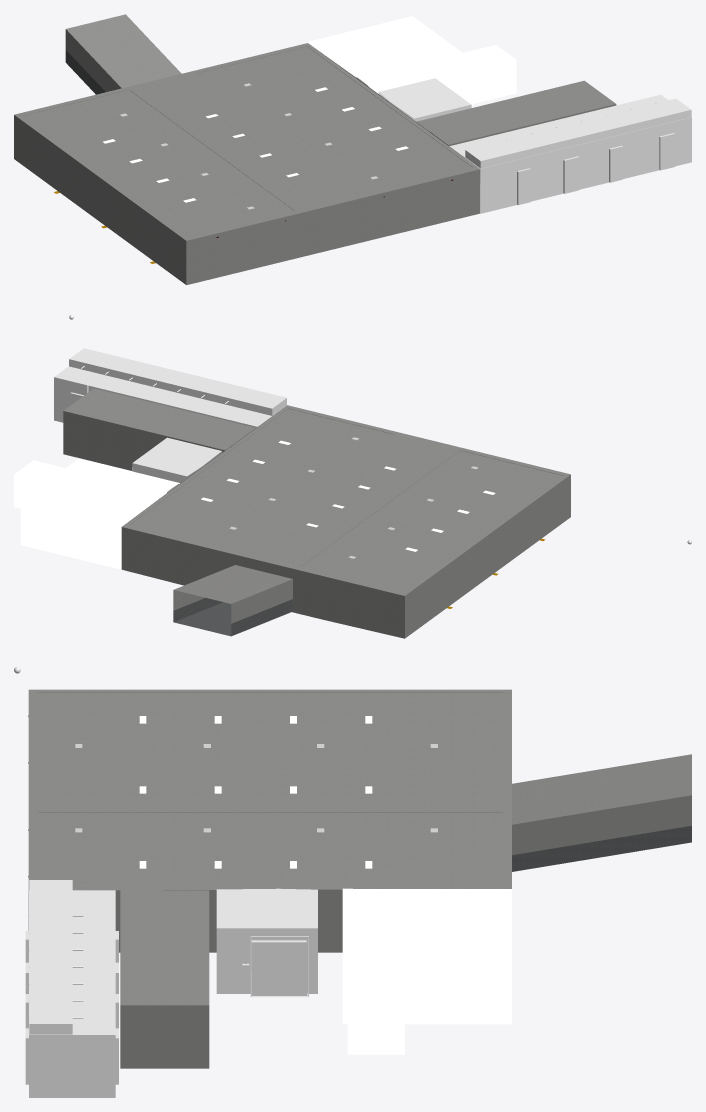
3 renders of one model, top to bottom at view 1: azimuth 30°, elevation 25°; view 2: azimuth 150°, elevation 25°; view 3: azimuth 270°, elevation 25°, orthographic. The views are drawn at different scales.
Visible parts, largest first — view 1: Plane.001_6, said wall_0, Cube.039_32, Cube.022_20, Cube.029_27, Cube.023_21, said wall.002_52; view 2: Plane.001_6, said wall_0, Cube.022_20, Cube.039_32, Cube.029_27, Cube.023_21, said wall.002_52; view 3: Plane.001_6, Cube.022_20, Cube.039_32, Cube.029_27, said wall_0, Cube.023_21, said wall.002_52, Cube.025_23, Cube.026_24.
Boxes of the visible parts, bbox=[...] form: Plane.001_6: bbox=[14, 43, 479, 240]; said wall_0: bbox=[14, 14, 480, 285]; Cube.039_32: bbox=[449, 94, 691, 213]; Cube.022_20: bbox=[308, 16, 516, 104]; Cube.029_27: bbox=[416, 80, 616, 146]; Cube.023_21: bbox=[378, 78, 471, 121]; said wall.002_52: bbox=[65, 50, 105, 94]; Plane.001_6: bbox=[122, 405, 570, 595]; said wall_0: bbox=[121, 423, 570, 638]; Cube.022_20: bbox=[14, 458, 179, 567]; Cube.039_32: bbox=[54, 348, 287, 427]; Cube.029_27: bbox=[63, 388, 255, 470]; Cube.023_21: bbox=[132, 437, 222, 483]; said wall.002_52: bbox=[173, 598, 292, 636]; Plane.001_6: bbox=[28, 689, 511, 890]; Cube.022_20: bbox=[342, 888, 511, 1052]; Cube.039_32: bbox=[25, 880, 118, 1097]; Cube.029_27: bbox=[120, 890, 209, 1068]; said wall_0: bbox=[28, 754, 691, 952]; Cube.023_21: bbox=[216, 888, 317, 997]; said wall.002_52: bbox=[512, 825, 691, 871]; Cube.025_23: bbox=[278, 942, 307, 995]; Cube.026_24: bbox=[251, 942, 277, 995].
Bounding box in the file's own units: 296 × 25.71 × 198.
Materials: 17 (6 with a texture image).
